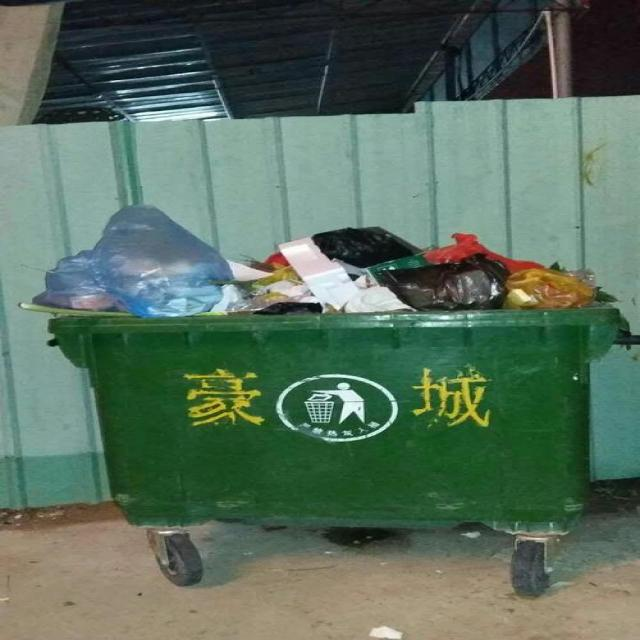overflow: (15, 204, 625, 526)
